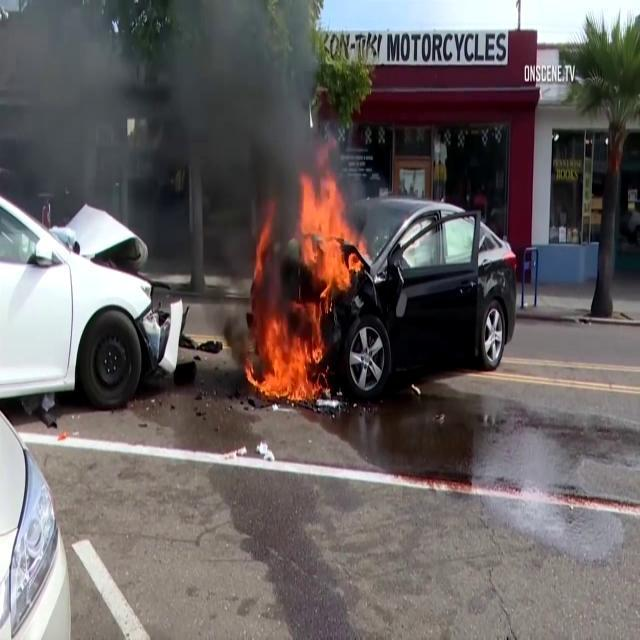Fire: (236, 301, 334, 415), (290, 174, 373, 306)
Smoke: (0, 0, 373, 249)
